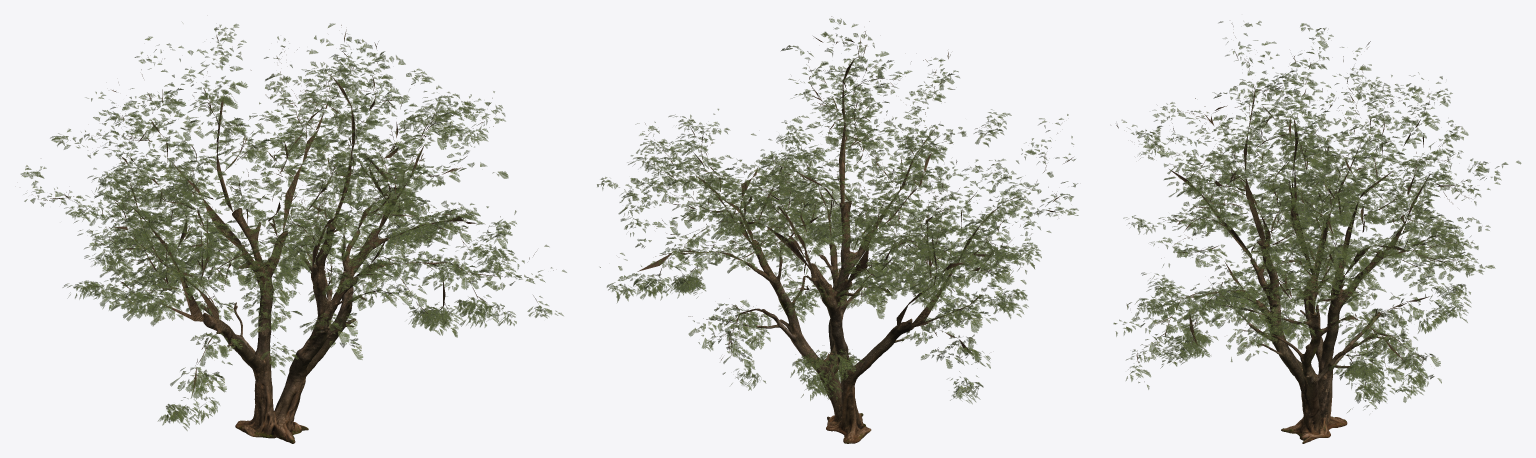
File: jacaranda_tree_lod1.glb
3 views of the same model, side by side, from view 1: azimuth 30°, elevation 25°; view 2: azimuth 150°, elevation 25°; view 3: azimuth 270°, elevation 25° (orthographic). The views are drawn at different scales.
Visible parts, largest first — view 1: jacaranda_tree_LOD0; view 2: jacaranda_tree_LOD0; view 3: jacaranda_tree_LOD0.
Boxes of the visible parts, x1,y1,x2,y2 form: jacaranda_tree_LOD0: (20,22,566,443); jacaranda_tree_LOD0: (597,16,1078,443); jacaranda_tree_LOD0: (1113,21,1521,443).
Bounding box in the file's own units: 23.53 × 19.33 × 19.02.
Materials: 3 (3 with a texture image).
